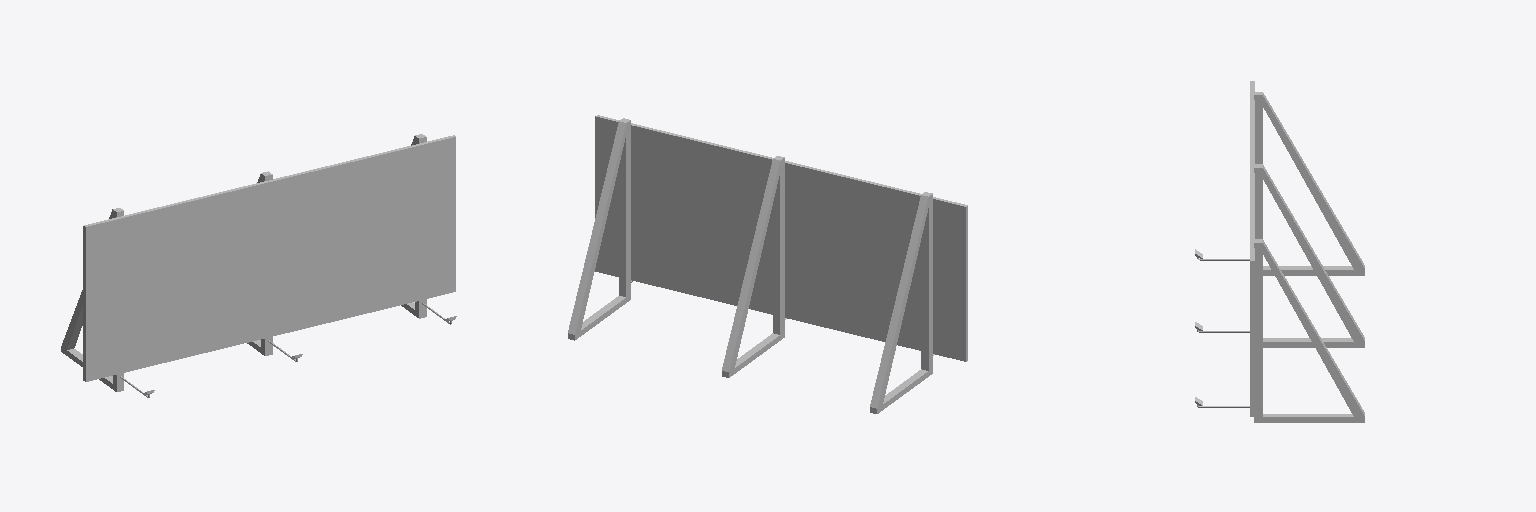
Rendered from babillard.obj.
3 views of the same model, side by side, from view 1: azimuth 30°, elevation 25°; view 2: azimuth 150°, elevation 25°; view 3: azimuth 270°, elevation 25° (orthographic).
Parts seen in each view (by area): view 1: Cube; view 2: Cube; view 3: Cube.
Boxes of the visible parts, x1,y1,x2,y2 form: Cube: [61, 134, 456, 397]; Cube: [568, 115, 967, 413]; Cube: [1195, 81, 1364, 422].
Bounding box in the file's own units: 2 × 0.9287 × 0.7988.